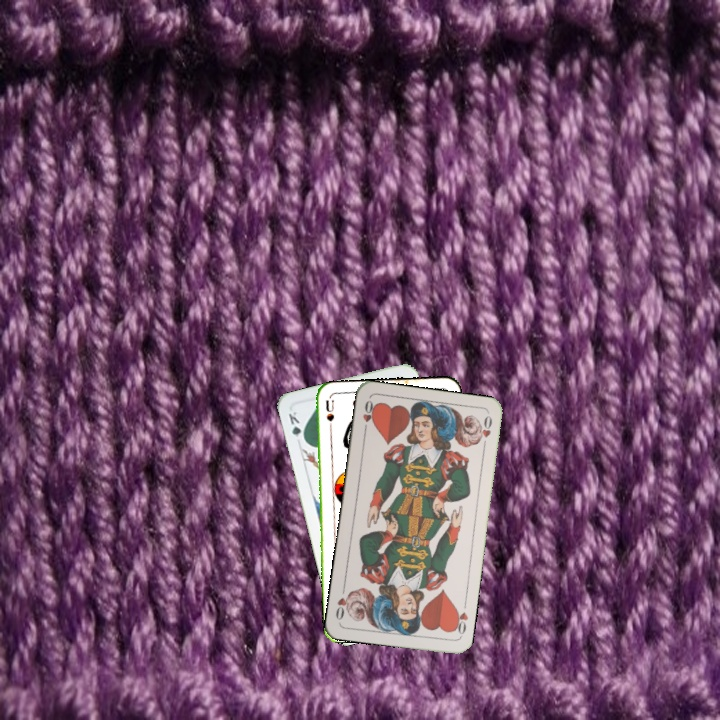GK: (284, 407, 308, 445)
HO: (359, 396, 378, 436), (449, 604, 470, 639)
SU: (321, 397, 336, 437)
